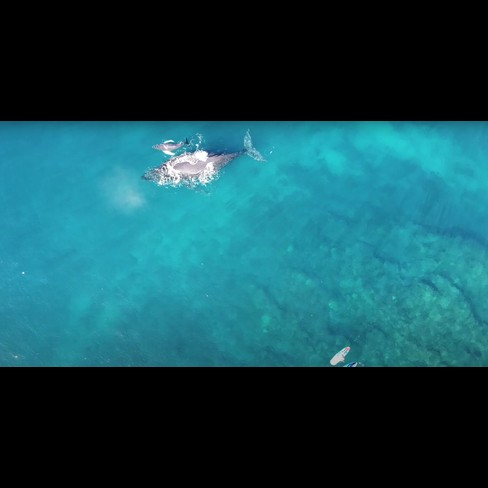hump: (139, 125, 272, 189), (149, 135, 194, 156)
